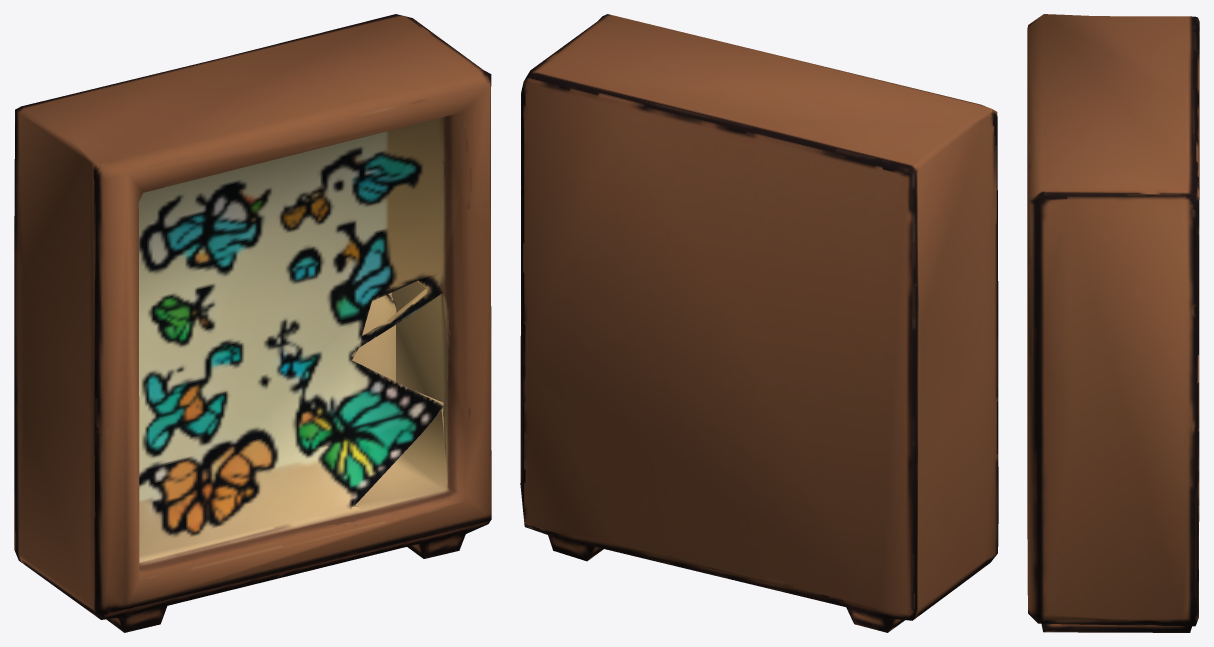
Rendered from butterfly-curio-cabinet.glb.
3 renders of one model, left to right at view 1: azimuth 30°, elevation 25°; view 2: azimuth 150°, elevation 25°; view 3: azimuth 270°, elevation 25°, orthographic. The views are drawn at different scales.
Parts seen in each view (by area): view 1: geometry_0.001; view 2: geometry_0.001; view 3: geometry_0.001.
Boxes of the visible parts, x1,y1,x2,y2 form: geometry_0.001: [14, 14, 491, 632]; geometry_0.001: [520, 14, 998, 632]; geometry_0.001: [1027, 14, 1199, 632].
Size of the model in its own units: 0.872 by 0.9964 by 0.3454.
Materials: 1 (1 with a texture image).
